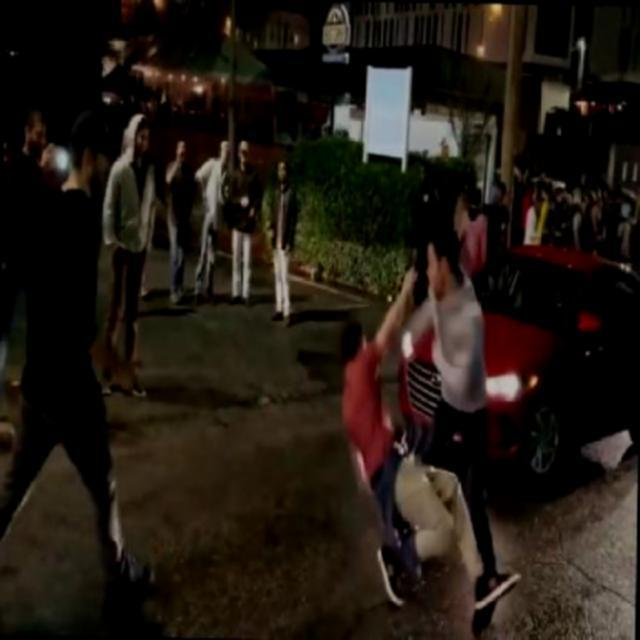fight: (336, 229, 526, 608)
non-fight: (26, 103, 157, 589), (162, 132, 262, 308), (268, 158, 298, 324)
